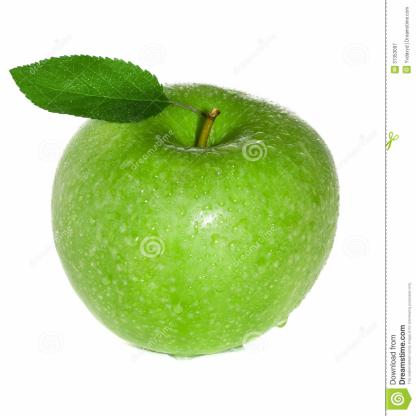Apple leaf: (2, 45, 179, 131)
